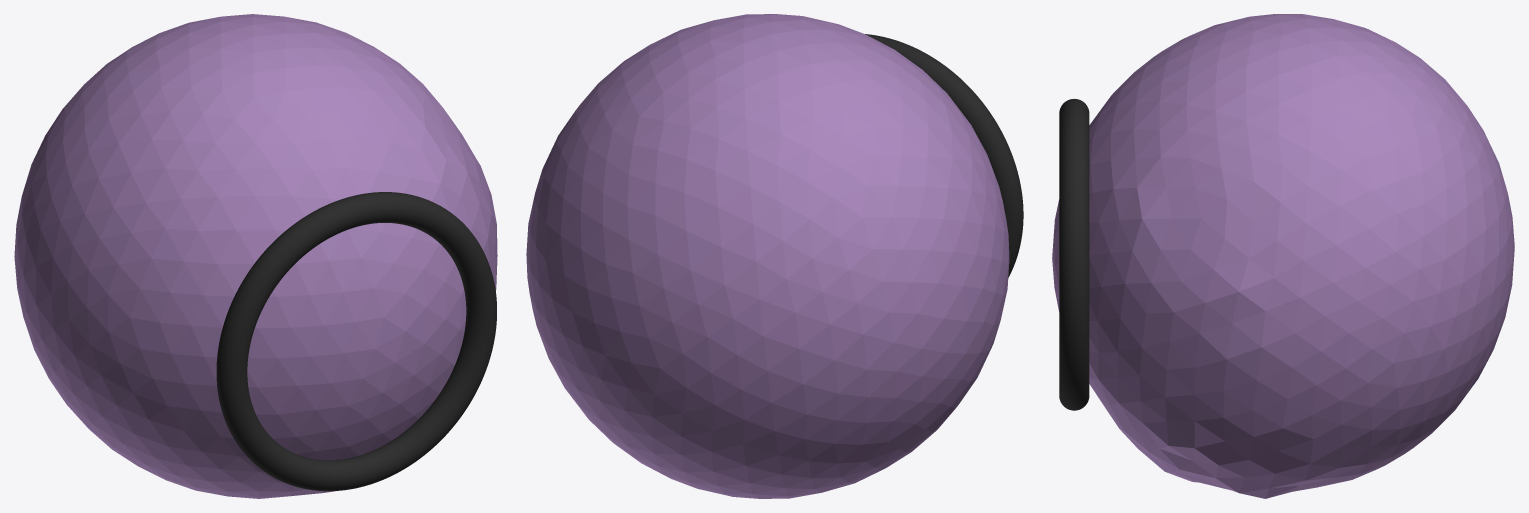
3 views of the same model, side by side, from view 1: azimuth 30°, elevation 25°; view 2: azimuth 150°, elevation 25°; view 3: azimuth 270°, elevation 25° (orthographic). The views are drawn at different scales.
Visible parts, largest first — view 1: actual014_body_inferred_base_gray, fixed_CAD_Ring; view 2: actual014_body_inferred_base_gray, fixed_CAD_Ring; view 3: actual014_body_inferred_base_gray, fixed_CAD_Ring.
Part boxes in pixels (left/top/right/bottom): actual014_body_inferred_base_gray: left=14, top=14, right=497, bottom=498; fixed_CAD_Ring: left=216, top=192, right=496, bottom=491; actual014_body_inferred_base_gray: left=526, top=14, right=1009, bottom=498; fixed_CAD_Ring: left=865, top=34, right=1023, bottom=277; actual014_body_inferred_base_gray: left=1052, top=14, right=1514, bottom=498; fixed_CAD_Ring: left=1059, top=98, right=1089, bottom=410.
Bounding box in the file's own units: 0.0188 × 0.0189 × 0.0184.
